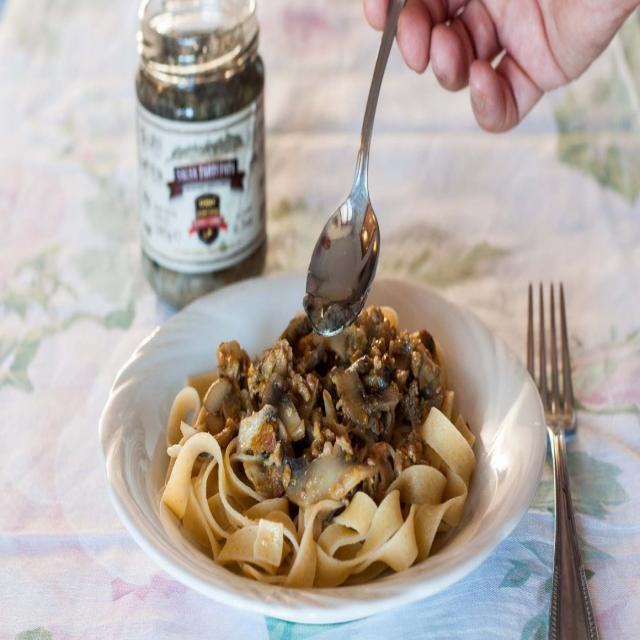Pasta al ragu: (149, 246, 538, 590)
